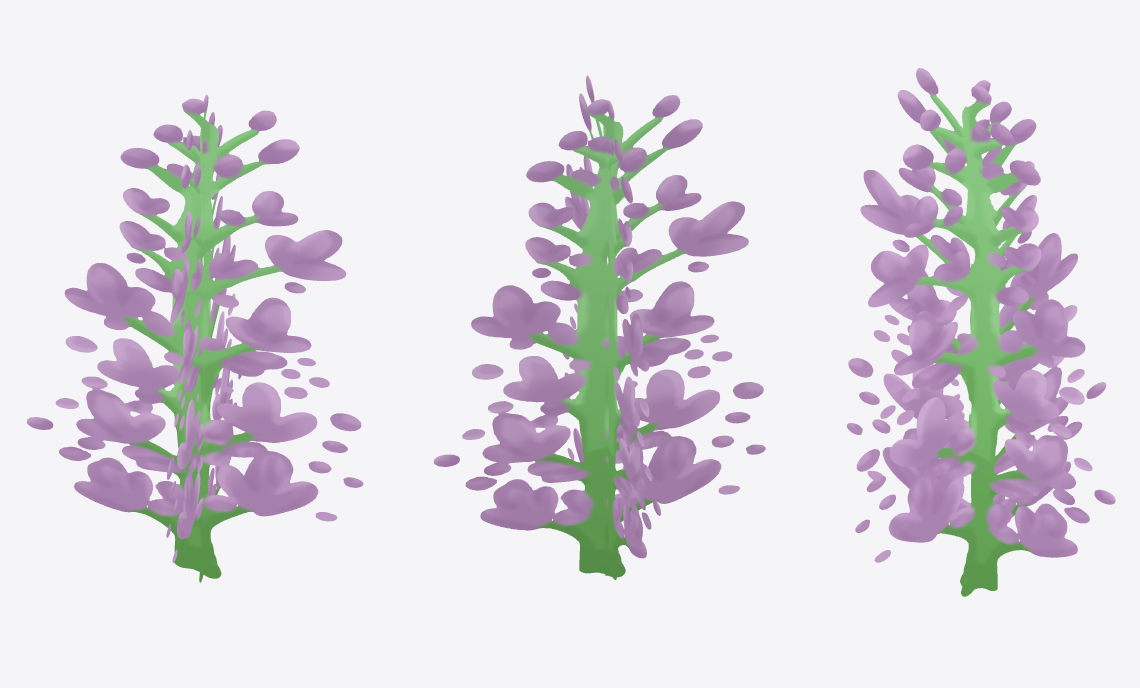
Rendered from Lavandas.fbx.
The picture shows the model from 3 angles, left to right: view 1: azimuth 30°, elevation 25°; view 2: azimuth 150°, elevation 25°; view 3: azimuth 270°, elevation 25°; orthographic projection. The views are drawn at different scales.
Visible parts, largest first — view 1: Lavandas; view 2: Lavandas; view 3: Lavandas.
Part boxes in pixels (x1,y1,x2,y2): Lavandas: (26,94,363,582); Lavandas: (433,75,765,579); Lavandas: (846,68,1115,596).
Size of the model in its own units: 65.14 by 126 by 65.14.
